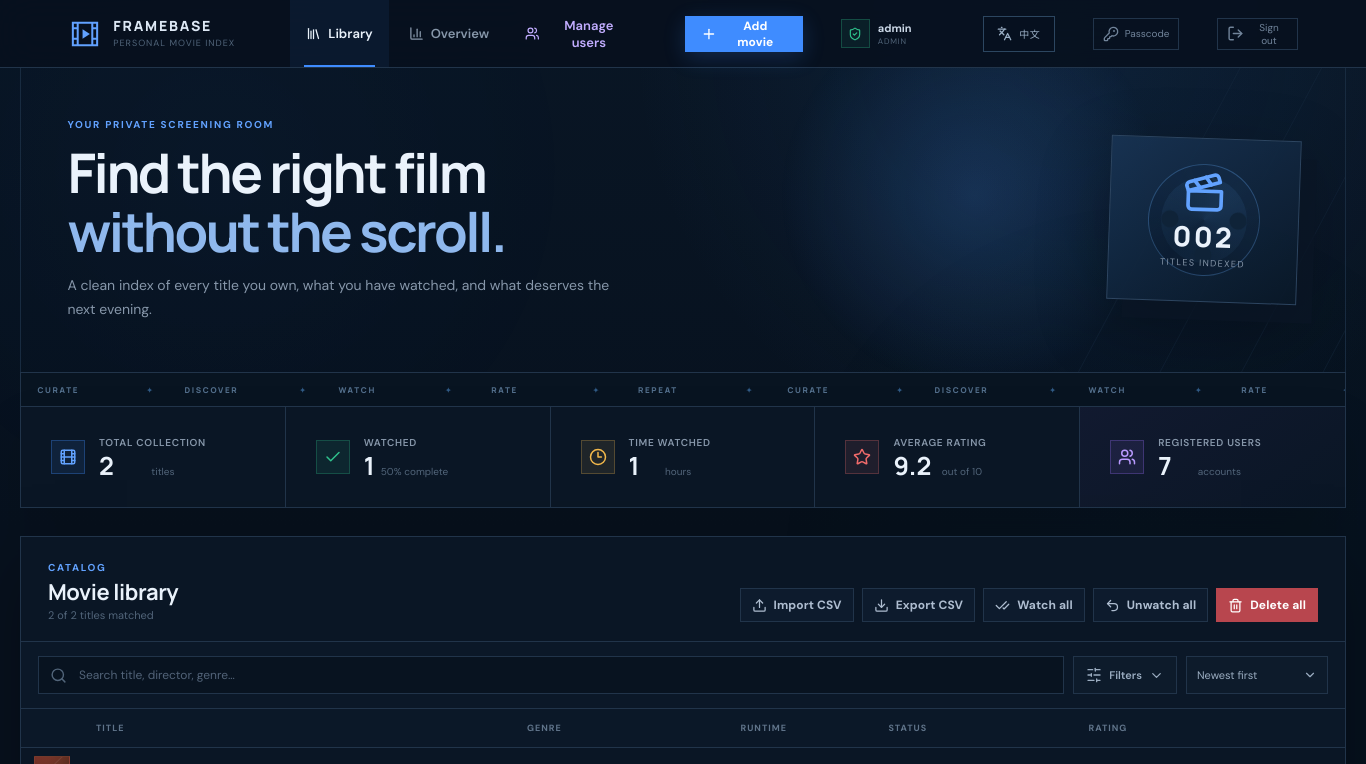
Test: App › opens movie details and preserves the search when returning to the library
The image size is (1366, 764).
Step 1. Type "Arrival" into the field named "Search library" → (565, 675), box [77,666,1052,684]
(page scrolled)
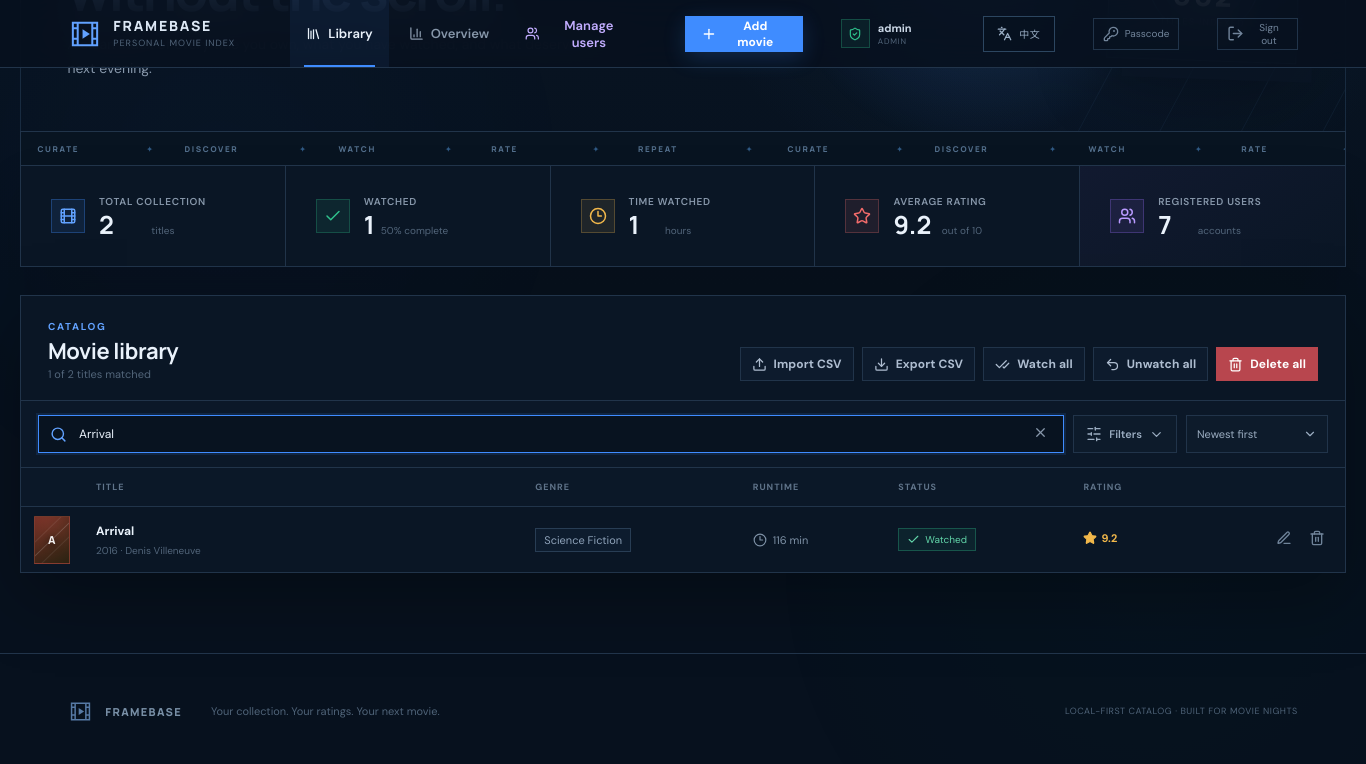
Step 2. Click the link "Arrival 2016 · Denis Villeneuve" → (115, 531), box [96,523,201,557]
(page scrolled)
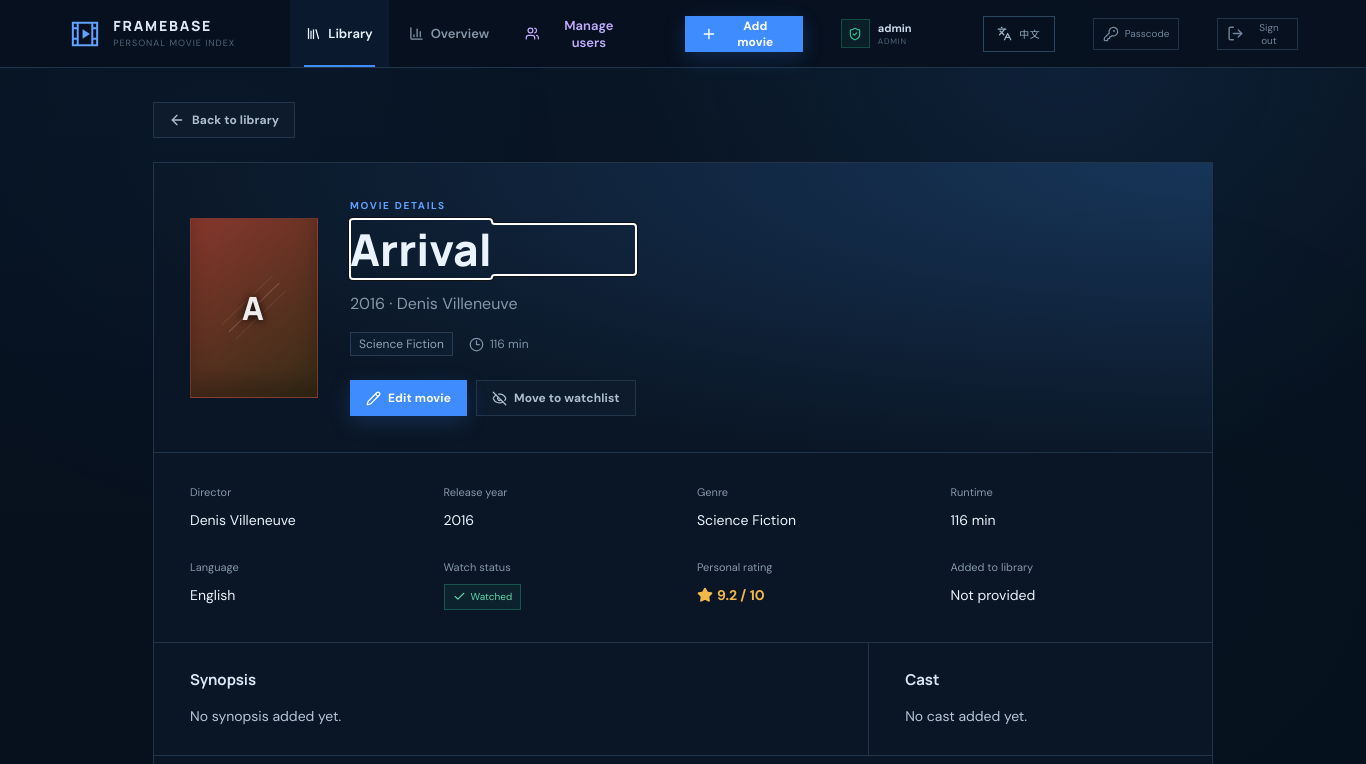
Result: the heading "Arrival" is shown at [350,219,492,279]
Step 3. Click the link "Back to library" → (224, 120), box [153,102,295,138]
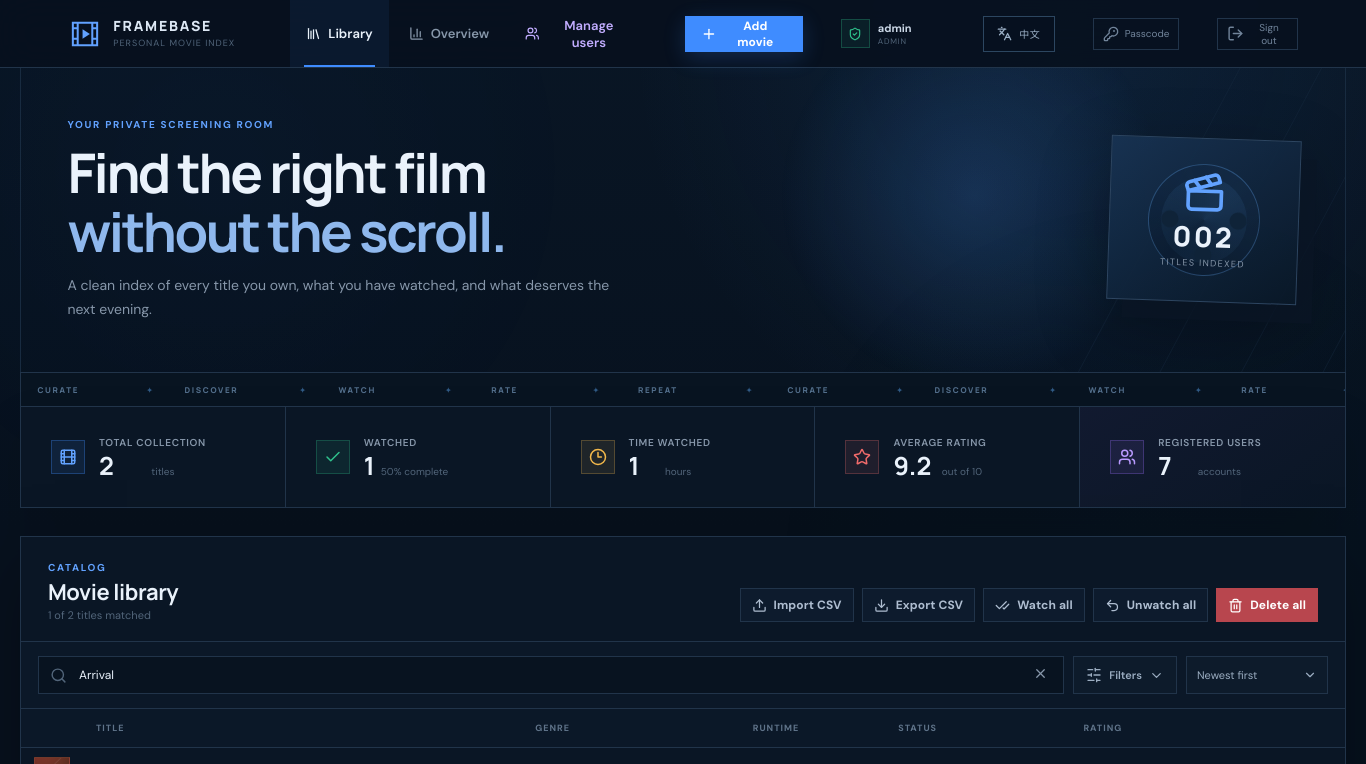
Result: the field named "Search library" holds "Arrival" at [77,666,1019,684]
Result: the text "1 of 2 titles matched" is shown at [48,608,151,622]
